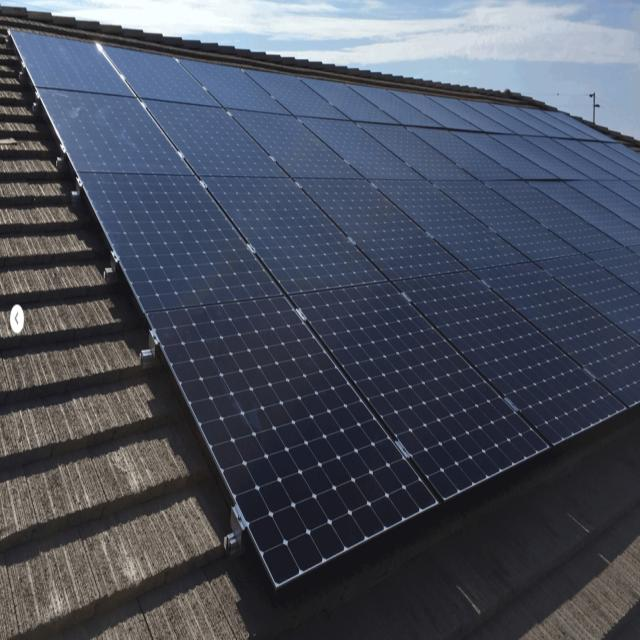clean-solar-panel: (0, 10, 640, 589)
